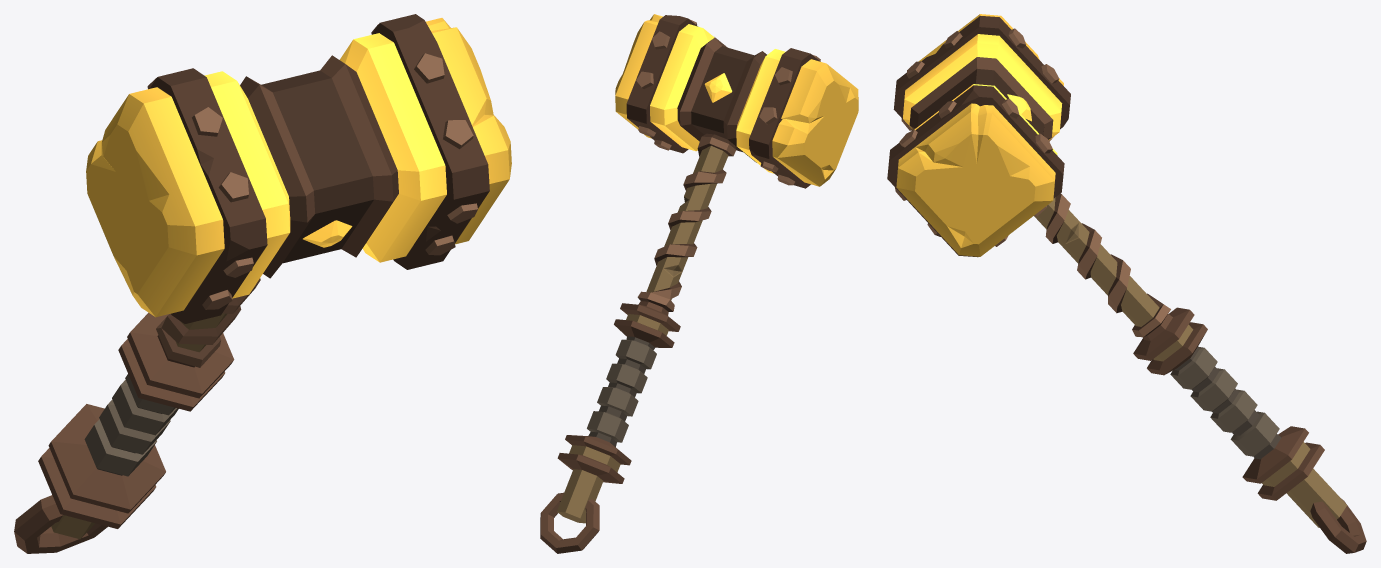
File: df-hammer-01-gold.glb
3 views of the same model, side by side, from view 1: azimuth 30°, elevation 25°; view 2: azimuth 150°, elevation 25°; view 3: azimuth 270°, elevation 25° (orthographic). The views are drawn at different scales.
Visible parts, largest first — view 1: df-hammer-01-gold; view 2: df-hammer-01-gold; view 3: df-hammer-01-gold.
Boxes of the visible parts, x1,y1,x2,y2 form: df-hammer-01-gold: (14,14,511,553); df-hammer-01-gold: (540,14,858,553); df-hammer-01-gold: (887,14,1366,553).
Bounding box in the file's own units: 0.4468 × 0.8868 × 0.7936.
1 material, 1 textured.
